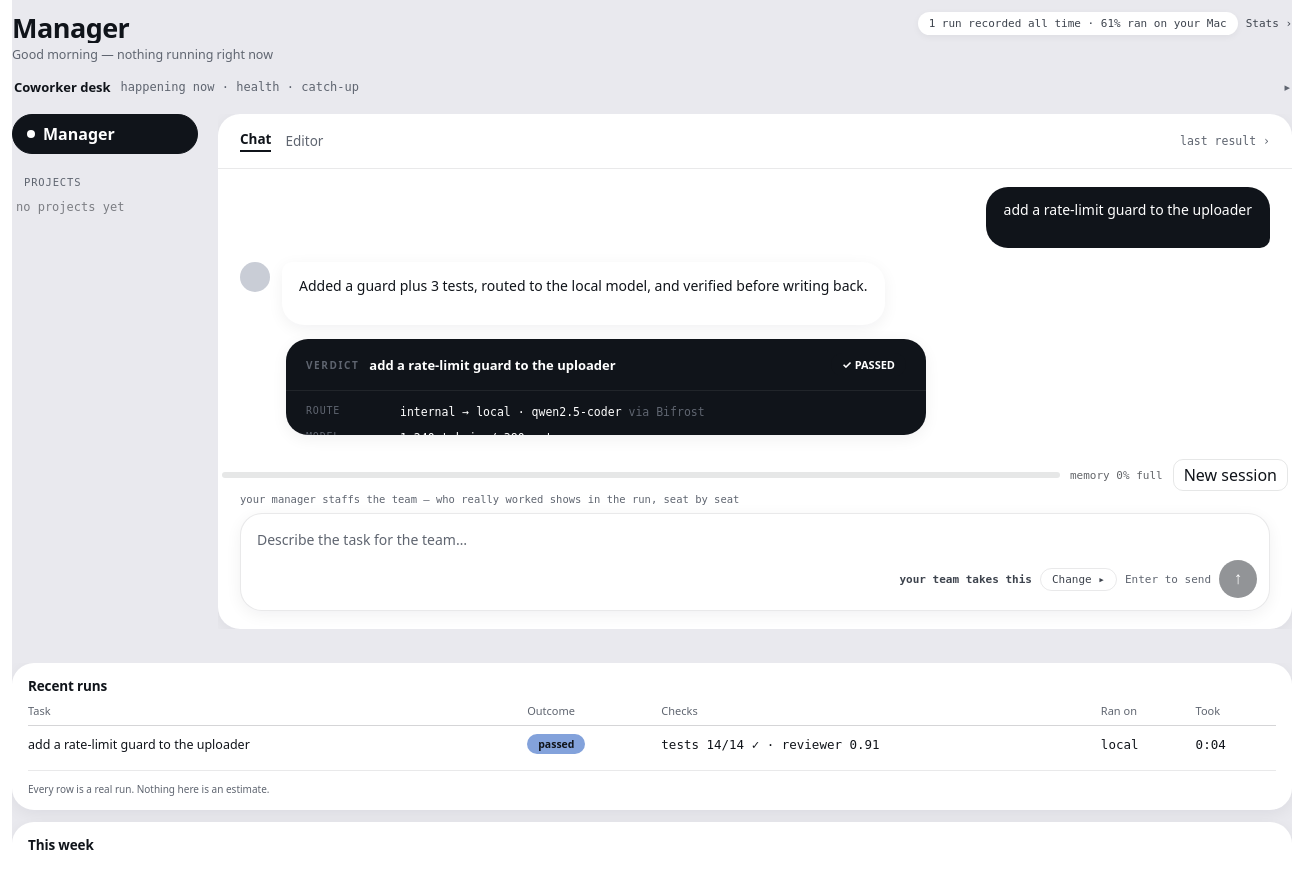
it: staffing a project from the composer › is offered but DISABLED with the reason when no project is open
Click the button with aria-label "Change who takes this".
click(1078, 579)  # box [1040,568,1117,591]
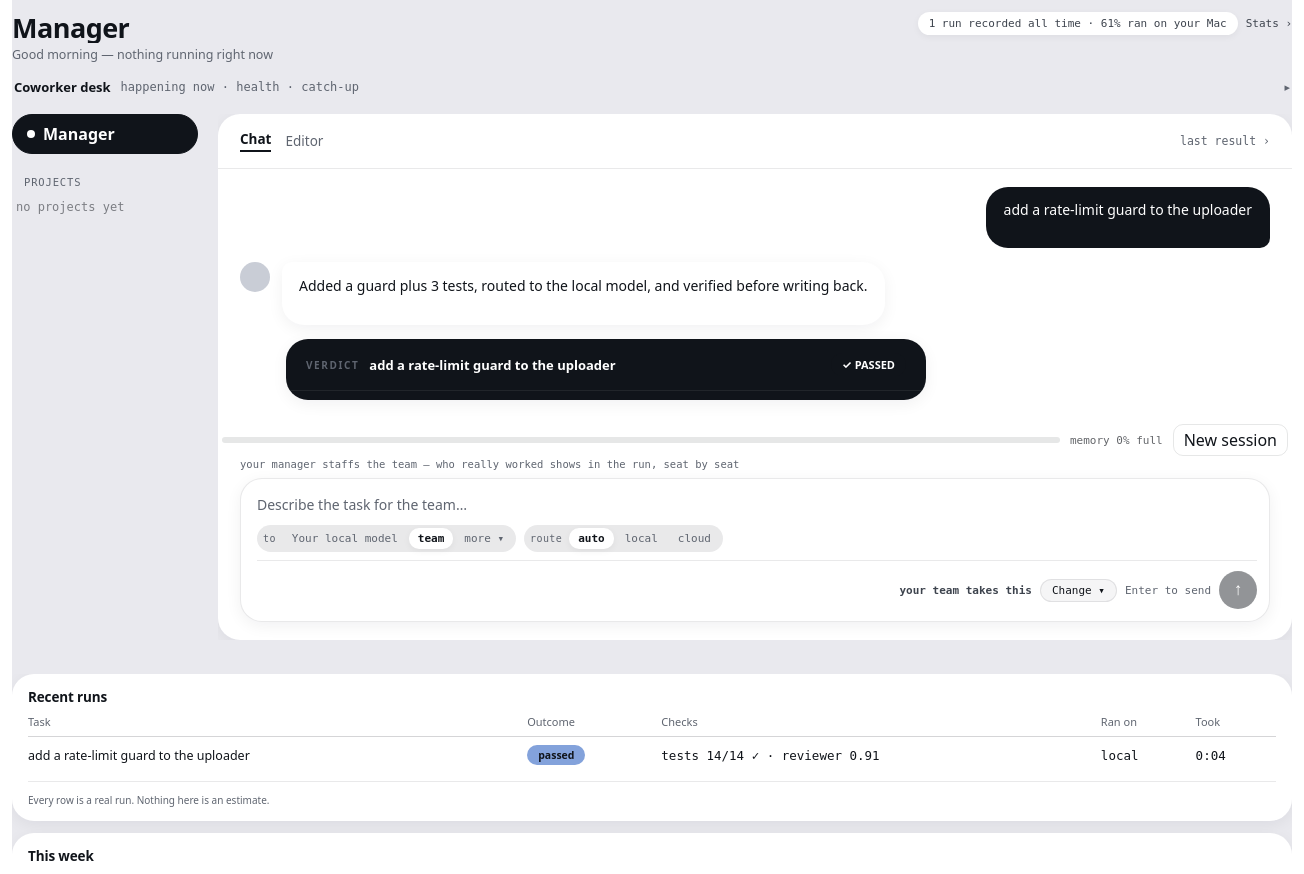
Click the button "more ▾".
click(484, 539)  # box [455,528,513,549]
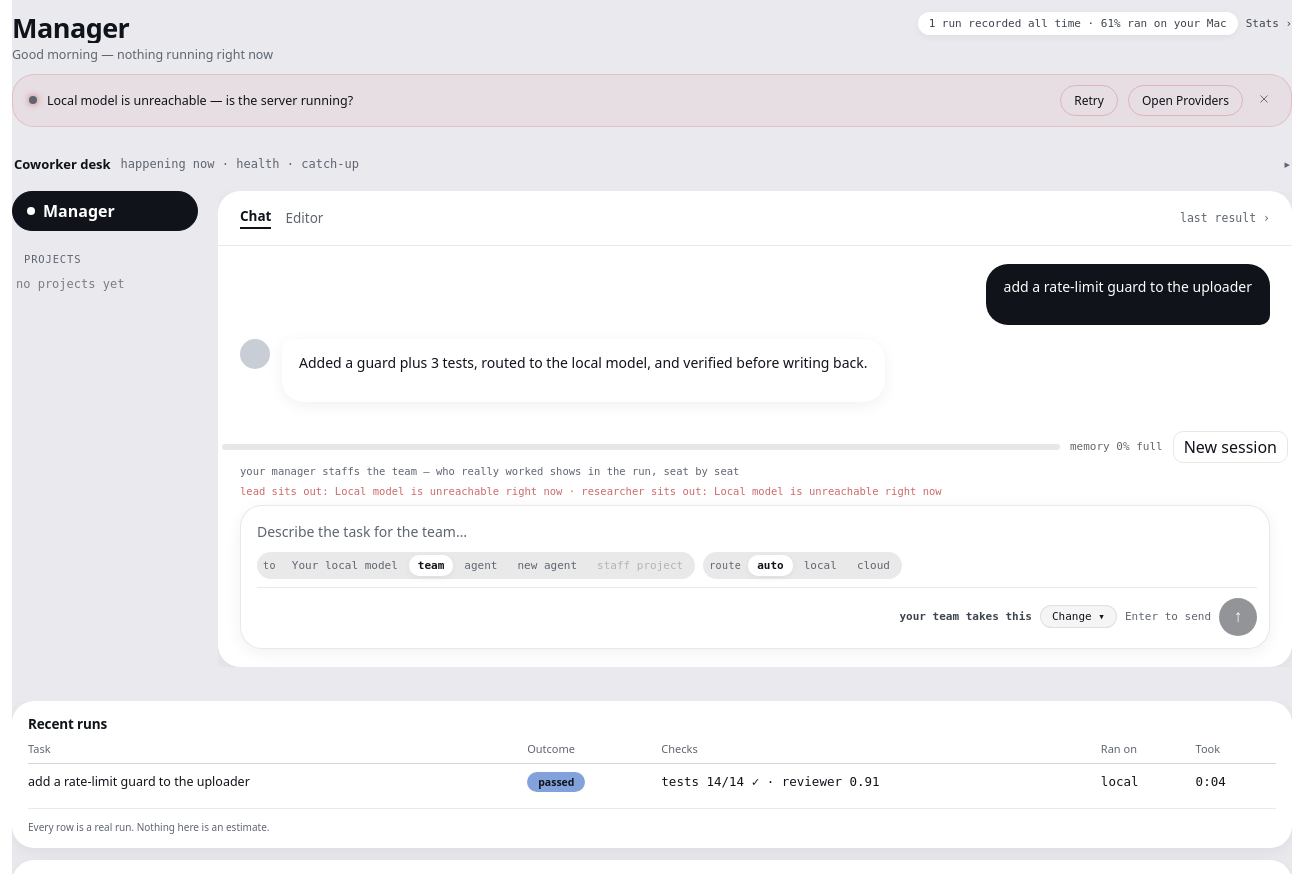
Check: the radio button labelled "staff project" is disabled, box [588,555,692,576]
